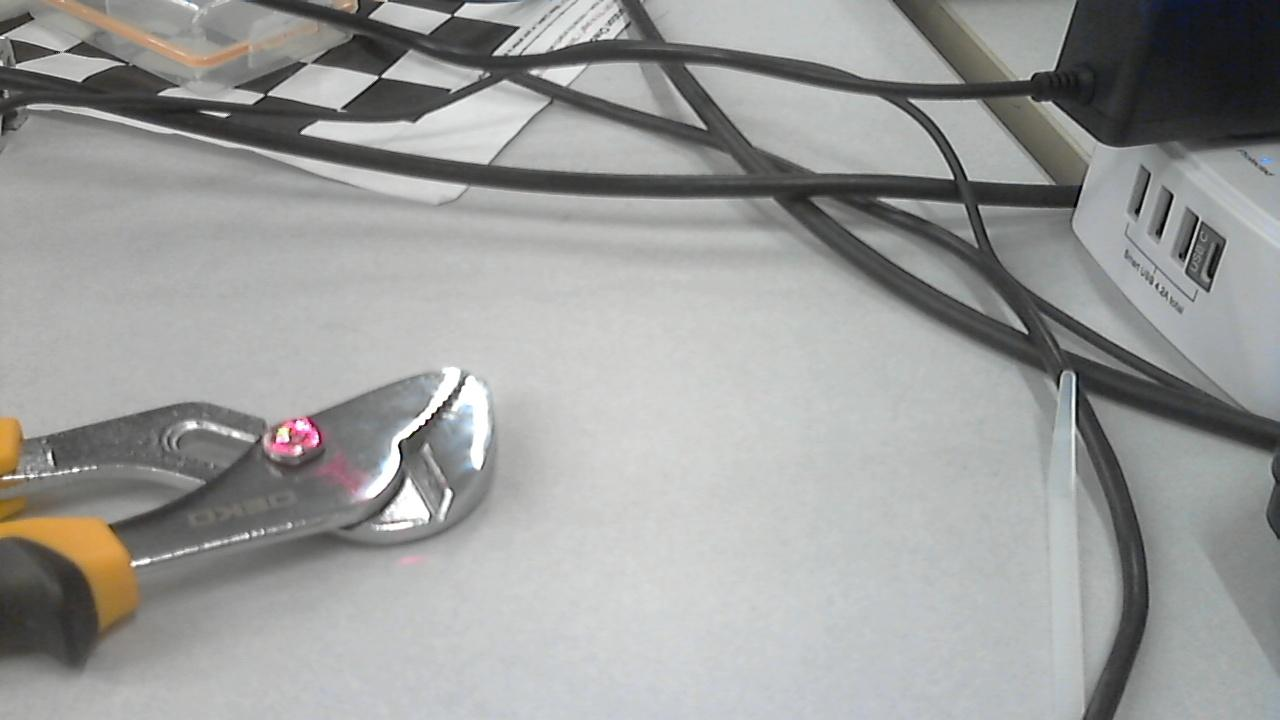Object slip joint pliers - Material metal - Pdfname favaeaevcsrta: (260, 405, 379, 499)
